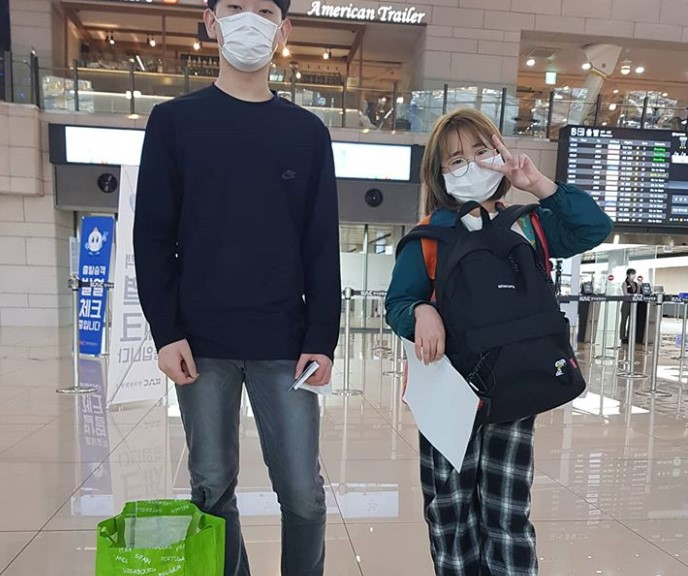face_with_mask: (425, 108, 507, 209), (203, 2, 291, 73)
